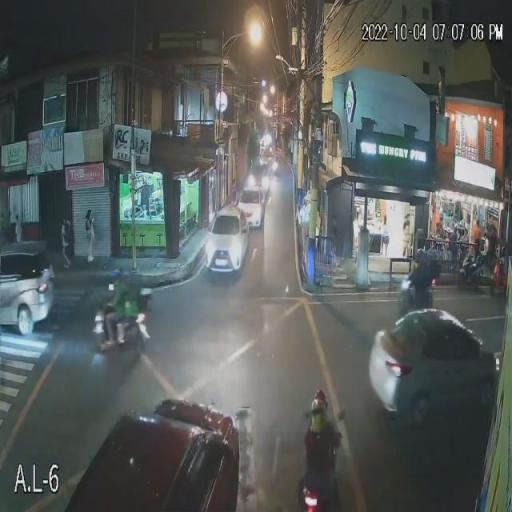helmet: (110, 266, 129, 286), (414, 246, 430, 264), (313, 402, 325, 426), (314, 387, 328, 407)
motorcycle: (92, 298, 154, 356), (309, 446, 355, 501), (380, 280, 446, 309)
rider: (304, 407, 333, 481), (407, 248, 432, 303), (313, 383, 340, 428), (110, 262, 126, 330)
